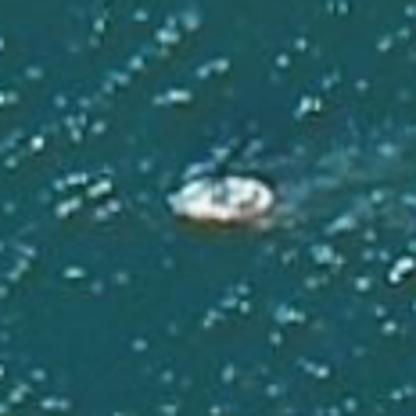ship: (158, 168, 282, 229)
